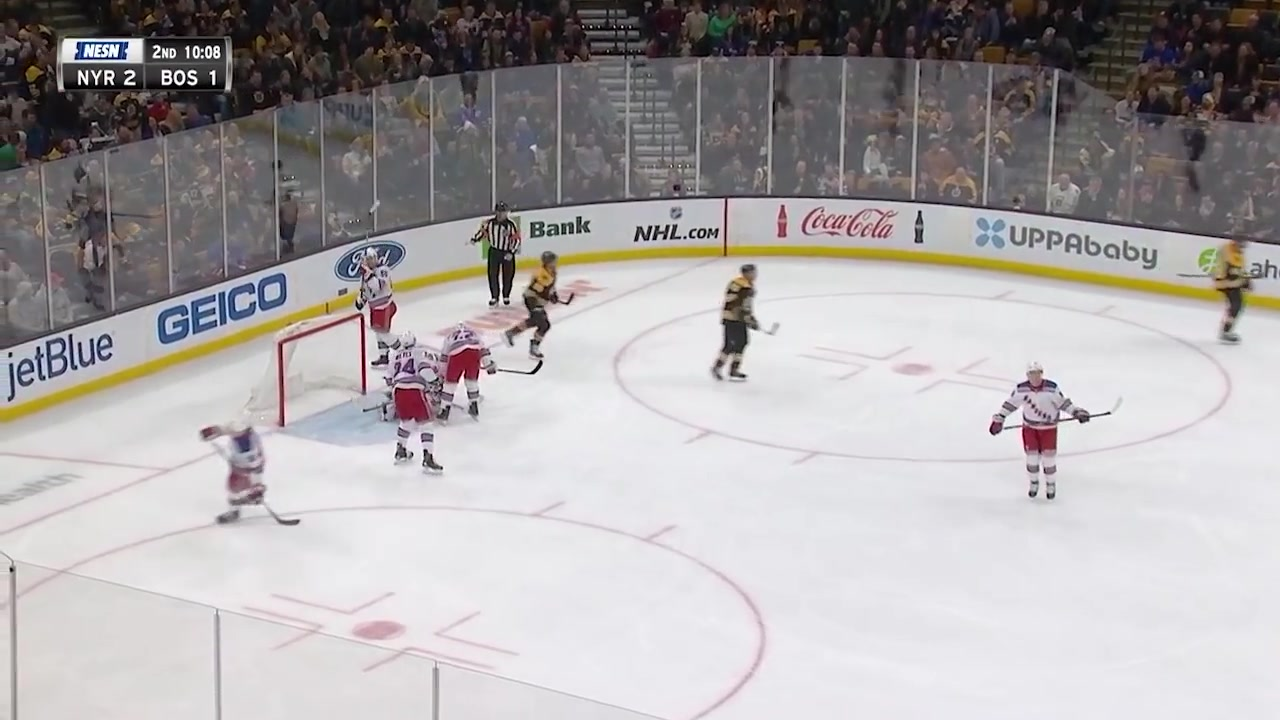Geico: (144, 268, 298, 345)
